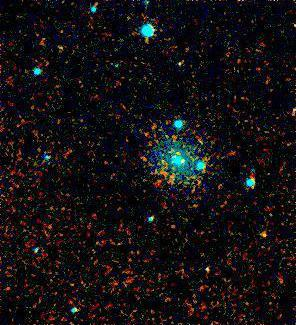star: (248, 220, 278, 250)
